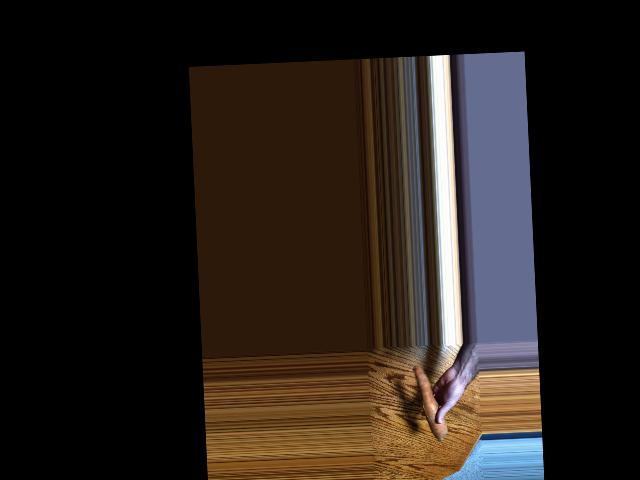sweet_potato: (419, 360, 443, 439)
